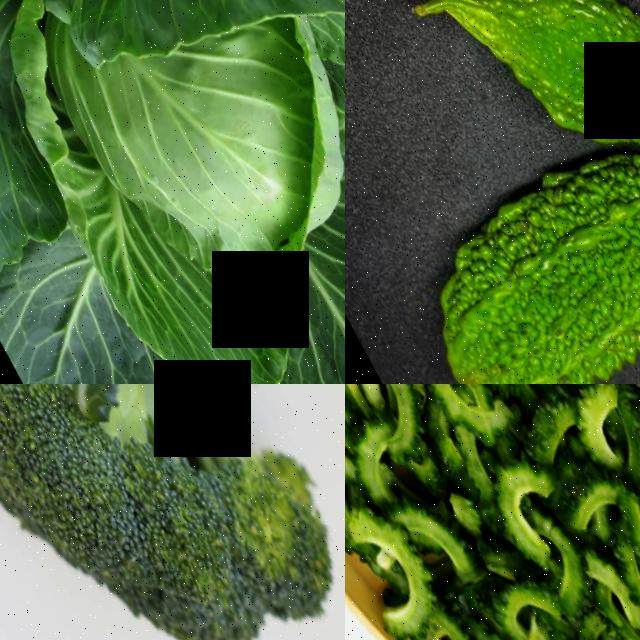bitter gourd: (348, 98, 640, 384), (394, 0, 640, 234)
broccoli: (0, 384, 345, 640)
cabbage: (0, 0, 345, 384)
